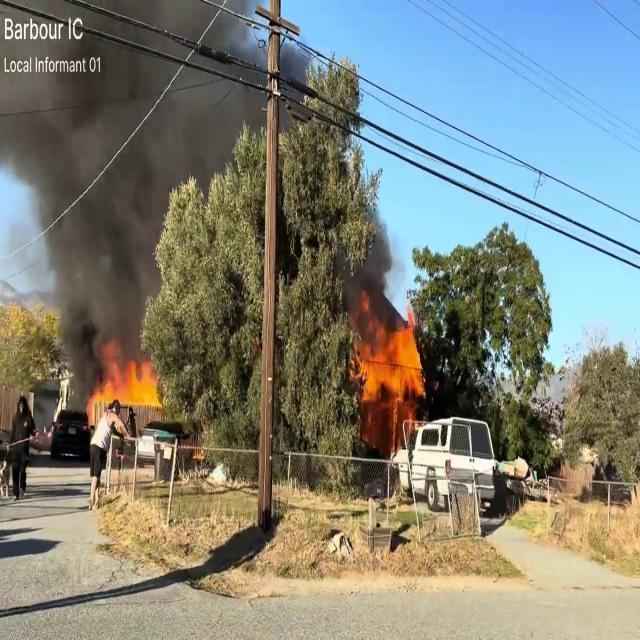Fire: (350, 318, 428, 420), (87, 356, 162, 417)
Smoke: (0, 0, 257, 348)
